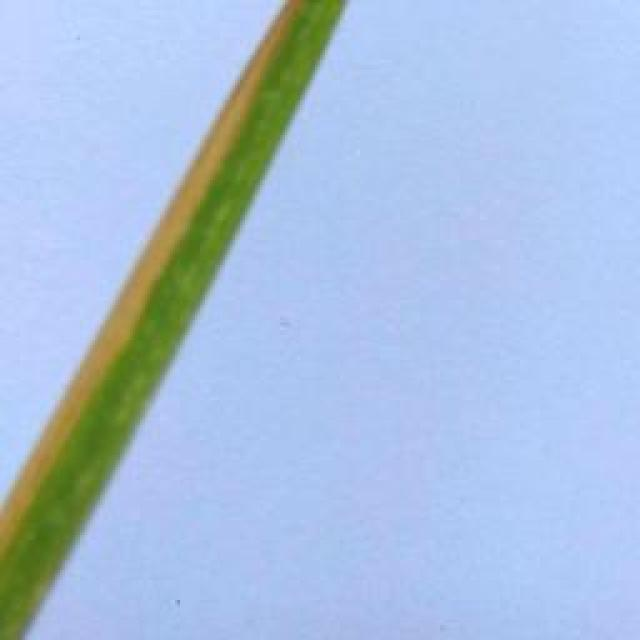Bacterial_Blight: (0, 0, 308, 545)
